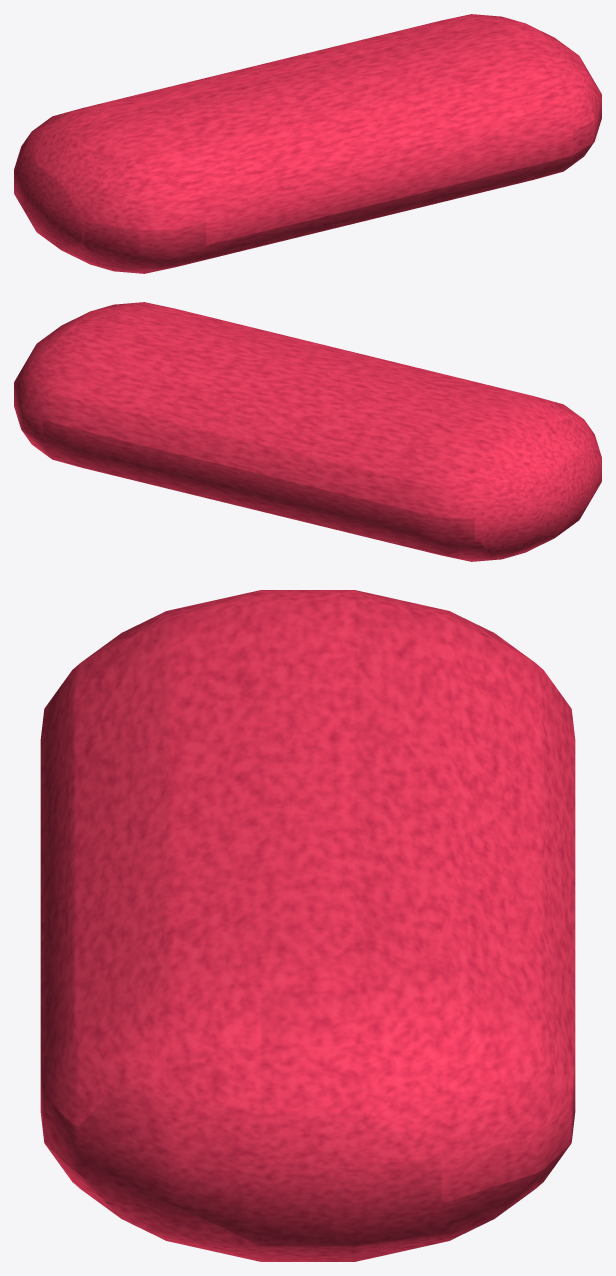
File: Untitled1۲glb.glb
The picture shows the model from 3 angles, top to bottom: view 1: azimuth 30°, elevation 25°; view 2: azimuth 150°, elevation 25°; view 3: azimuth 270°, elevation 25°; orthographic projection. The views are drawn at different scales.
Visible parts, largest first — view 1: Bacterium geo node body; view 2: Bacterium geo node body; view 3: Bacterium geo node body.
Part boxes in pixels (x1,y1,x2,y2): Bacterium geo node body: (14,14,601,273); Bacterium geo node body: (14,302,601,561); Bacterium geo node body: (40,590,575,1261).
Bounding box in the file's own units: 5.3 × 1.22 × 2.27.
1 material, 1 textured.
